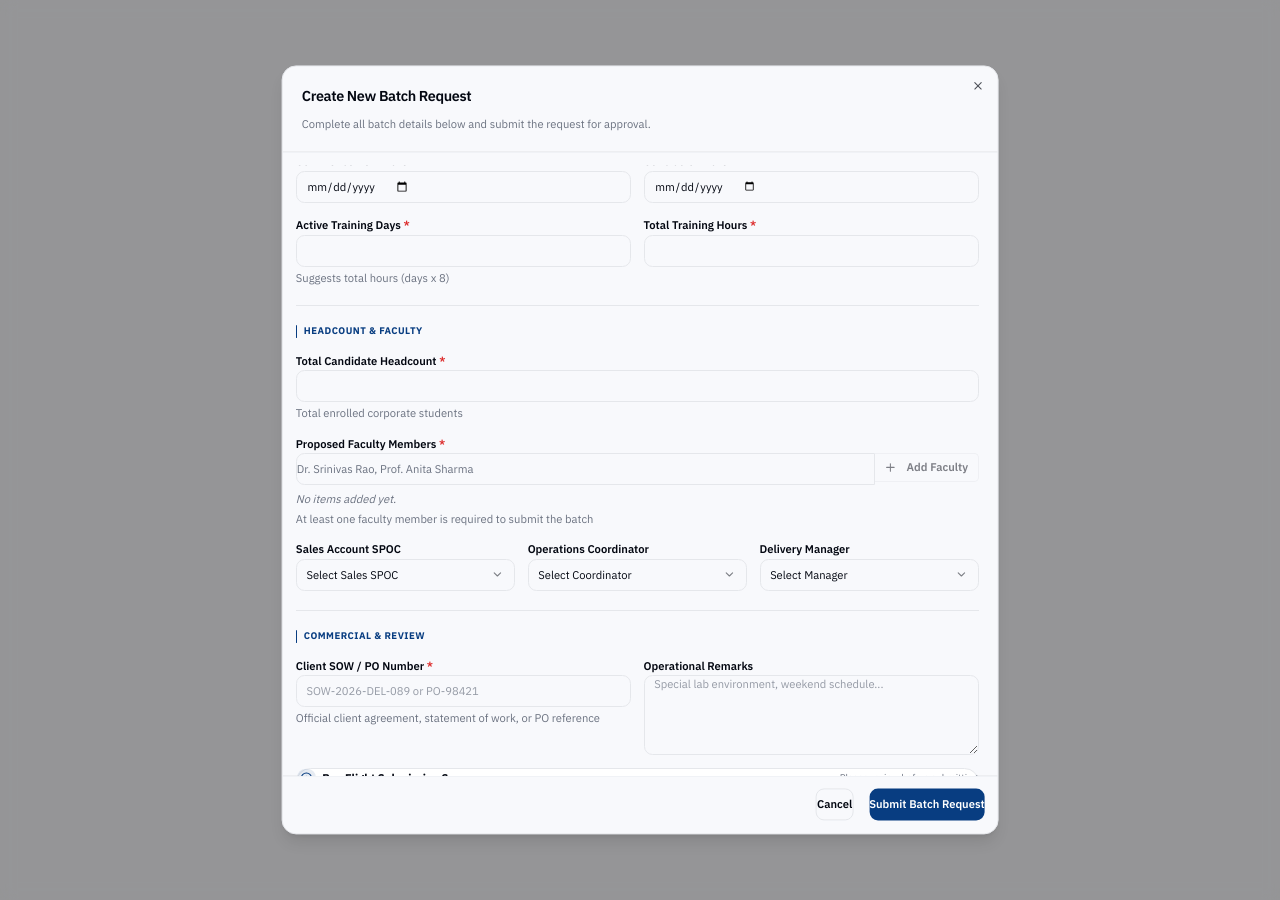
Scenario: CreateBatchModal faculty chip field › adds faculty as array entries, not an object keyed by the draft input
(page scrolled)
In the field labelled "Proposed Faculty Members *": [585, 470] box top-left (295, 454), bottom-right (874, 486), type "Dr. Rao"
Then press Enter
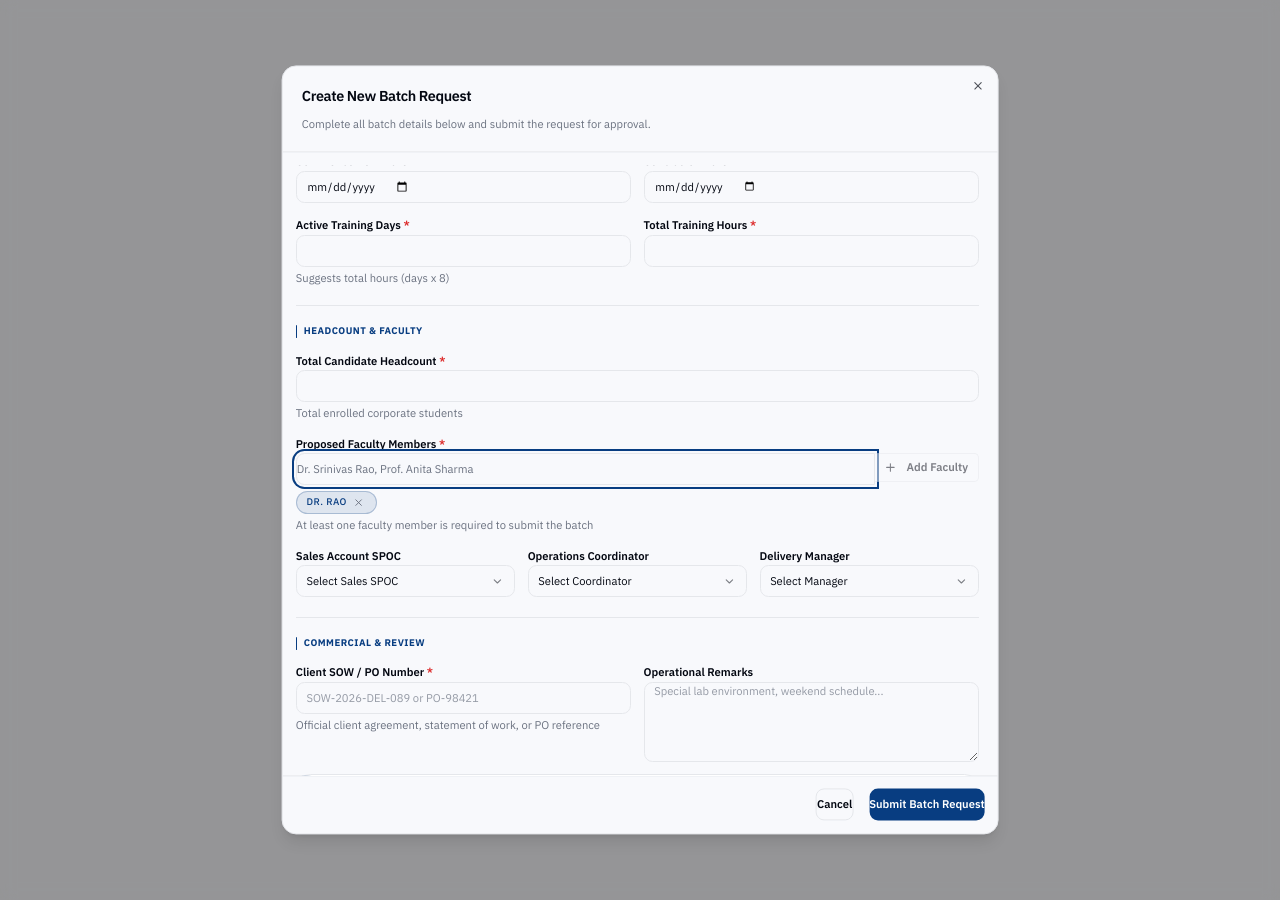
In the field labelled "Proposed Faculty Members *": [585, 470] box top-left (295, 454), bottom-right (874, 486), type "Prof. Sharma"
Then press Enter
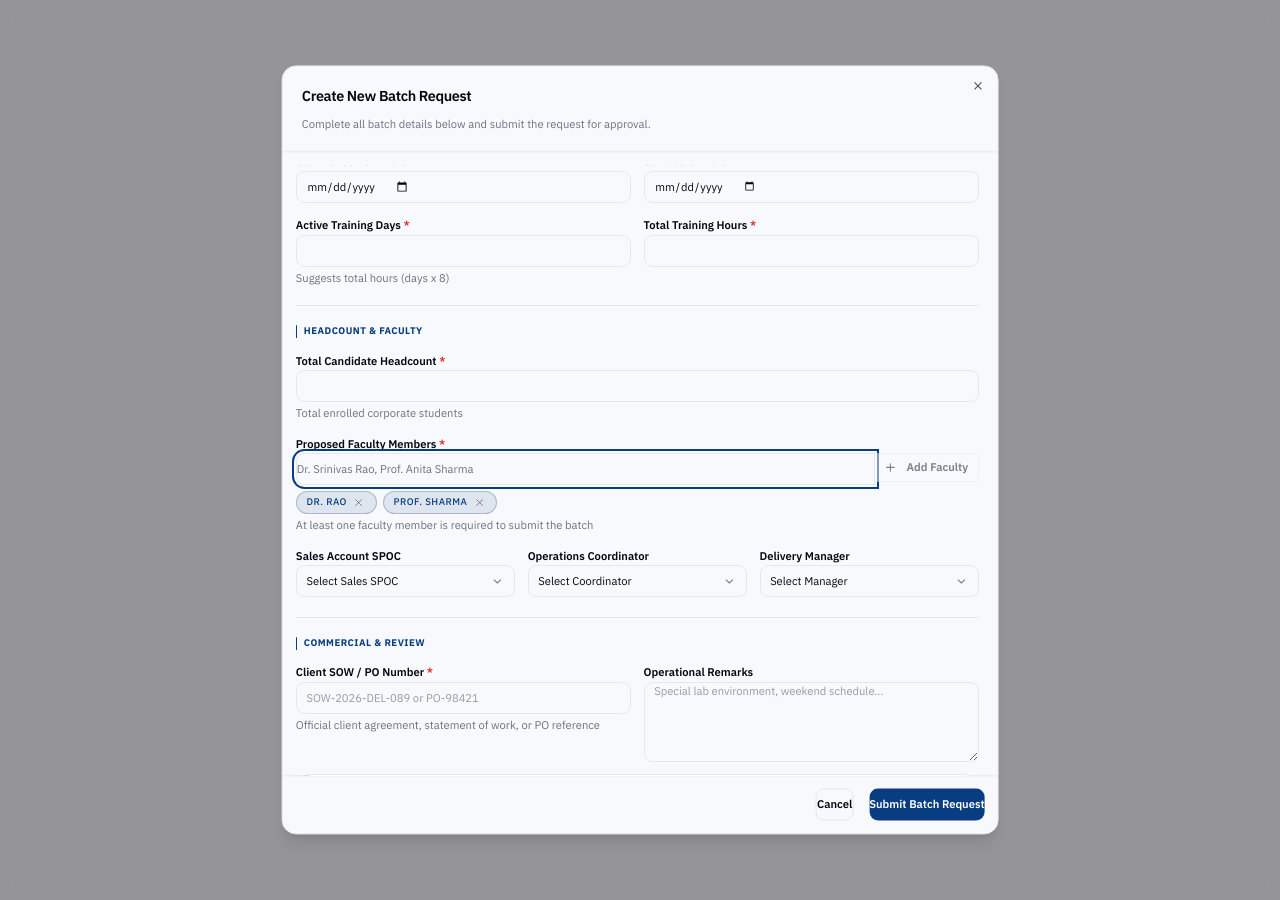
Now the text "Dr. Rao" is shown, box top-left (306, 497), bottom-right (346, 510)
Now the text "Prof. Sharma" is shown, box top-left (393, 497), bottom-right (467, 510)
